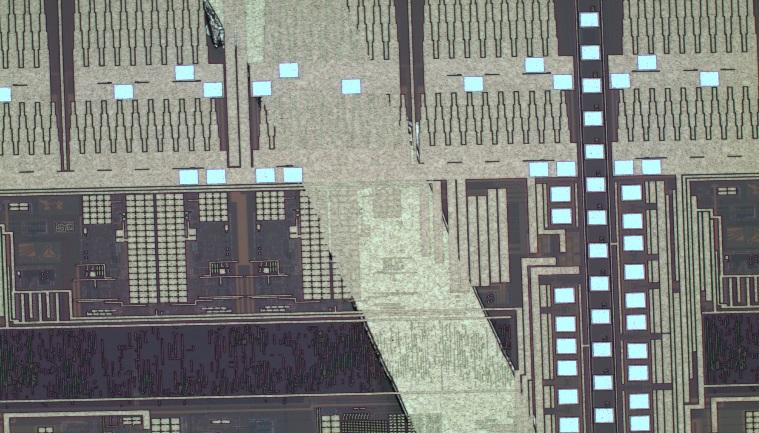BLOCK ETCH: (189, 1, 550, 433)
